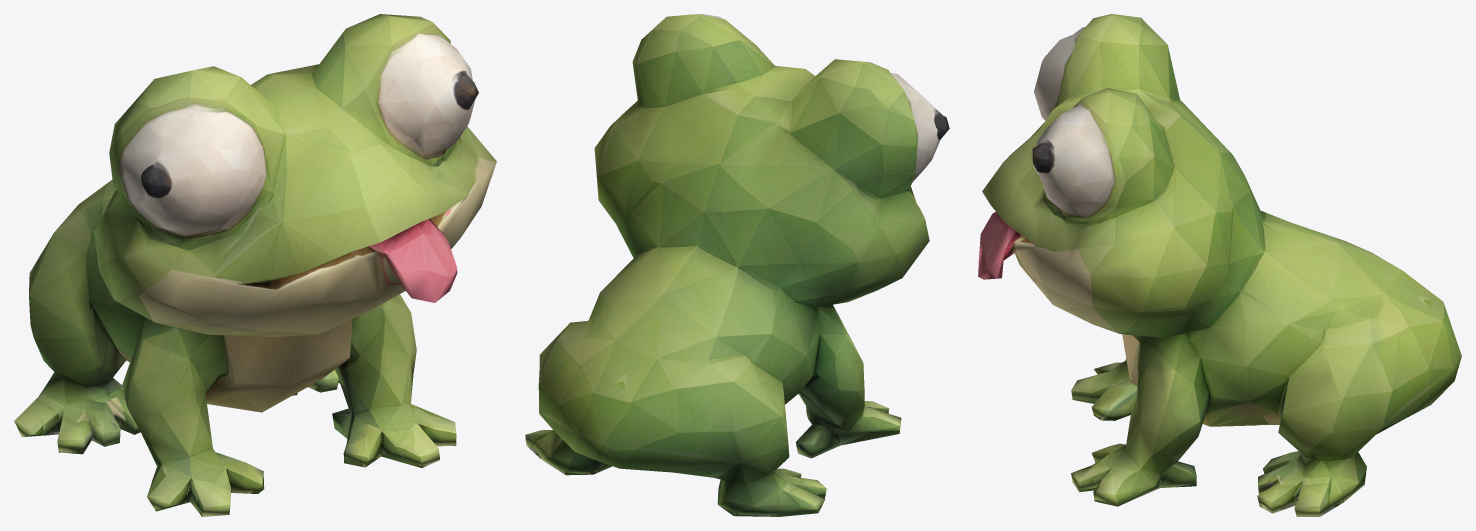
The model's file is Frog.fbx.
3 renders of one model, left to right at view 1: azimuth 30°, elevation 25°; view 2: azimuth 150°, elevation 25°; view 3: azimuth 270°, elevation 25°, orthographic. The views are drawn at different scales.
Visible parts, largest first — view 1: texture_mapping; view 2: texture_mapping; view 3: texture_mapping.
Part boxes in pixels (x1=…): texture_mapping: x1=14, y1=14, x2=496, y2=516; texture_mapping: x1=525, y1=14, x2=949, y2=516; texture_mapping: x1=978, y1=14, x2=1461, y2=516.
Bounding box in the file's own units: 0.7735 × 0.9981 × 0.8926.
Materials: 1 (1 with a texture image).
